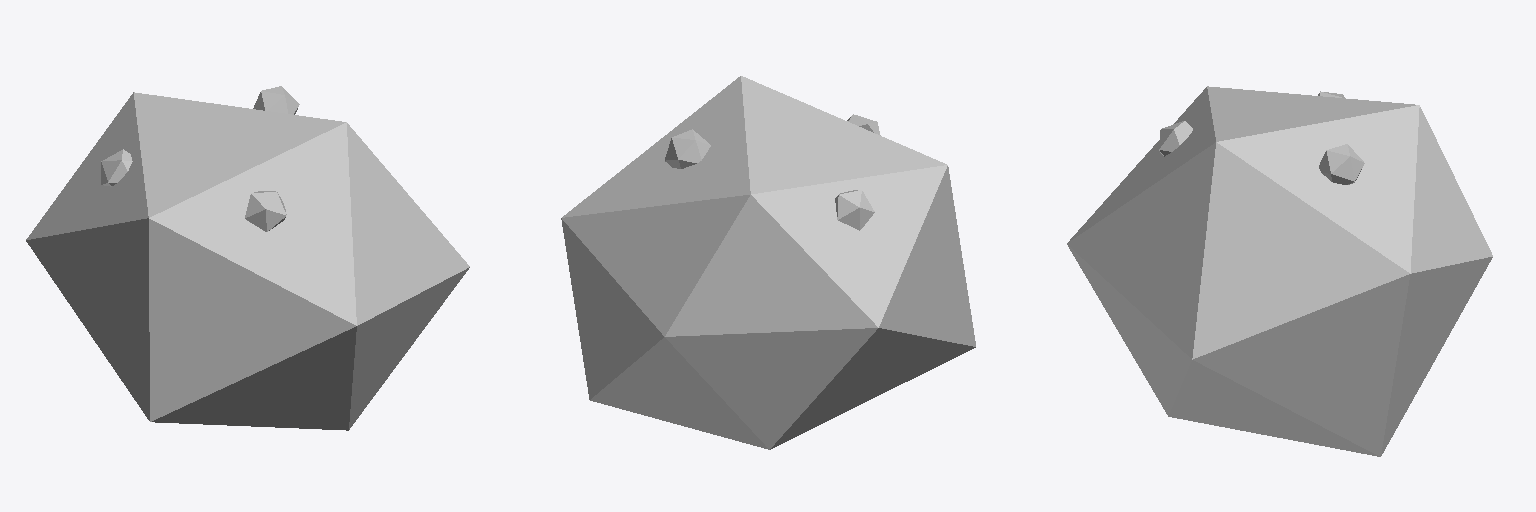
Rendered from snowy_bush.obj.
3 views of the same model, side by side, from view 1: azimuth 30°, elevation 25°; view 2: azimuth 150°, elevation 25°; view 3: azimuth 270°, elevation 25° (orthographic).
Bounding box in the file's own units: 2.7 × 2.16 × 2.93.